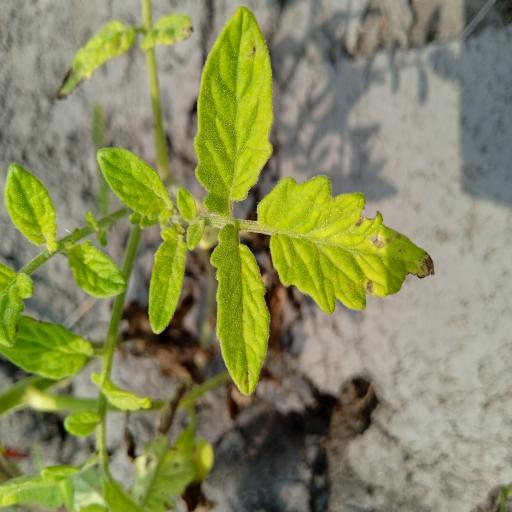Tomato_Brown_Spots: (255, 169, 440, 314), (192, 4, 280, 204), (210, 216, 272, 399)
